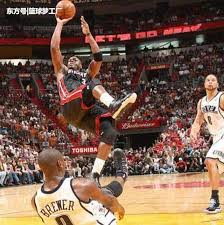10+: (1, 1, 224, 225)
down: (31, 149, 126, 223)
